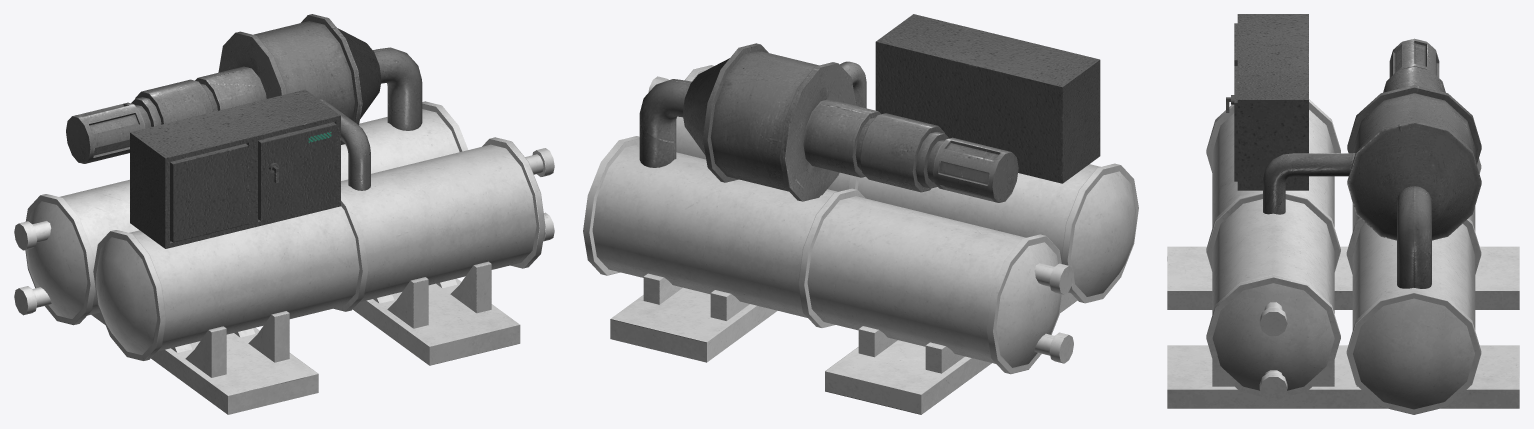
File: host.obj
3 views of the same model, side by side, from view 1: azimuth 30°, elevation 25°; view 2: azimuth 150°, elevation 25°; view 3: azimuth 270°, elevation 25° (orthographic). The views are drawn at different scales.
Visible parts, largest first — view 1: 主机_1; view 2: 主机_1; view 3: 主机_1.
Part boxes in pixels (bbox=[...]): 主机_1: bbox=[14, 14, 554, 414]; 主机_1: bbox=[583, 14, 1138, 414]; 主机_1: bbox=[1167, 14, 1519, 414].
Bounding box in the file's own units: 151 × 79.7 × 101.
